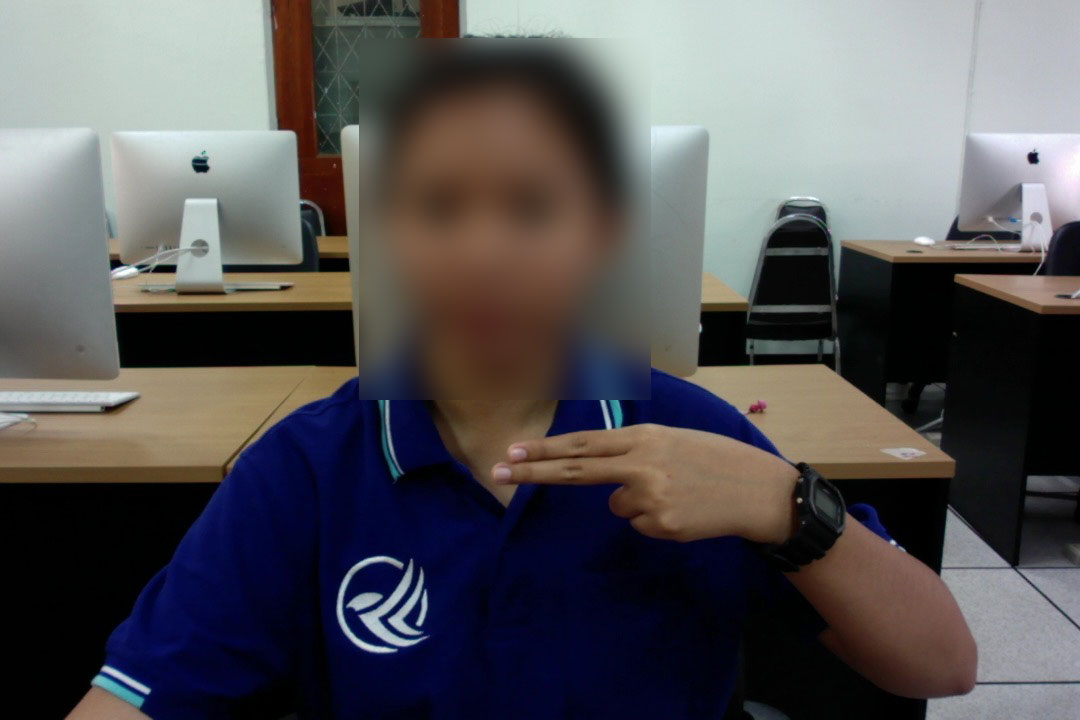hor: (477, 415, 812, 551)
